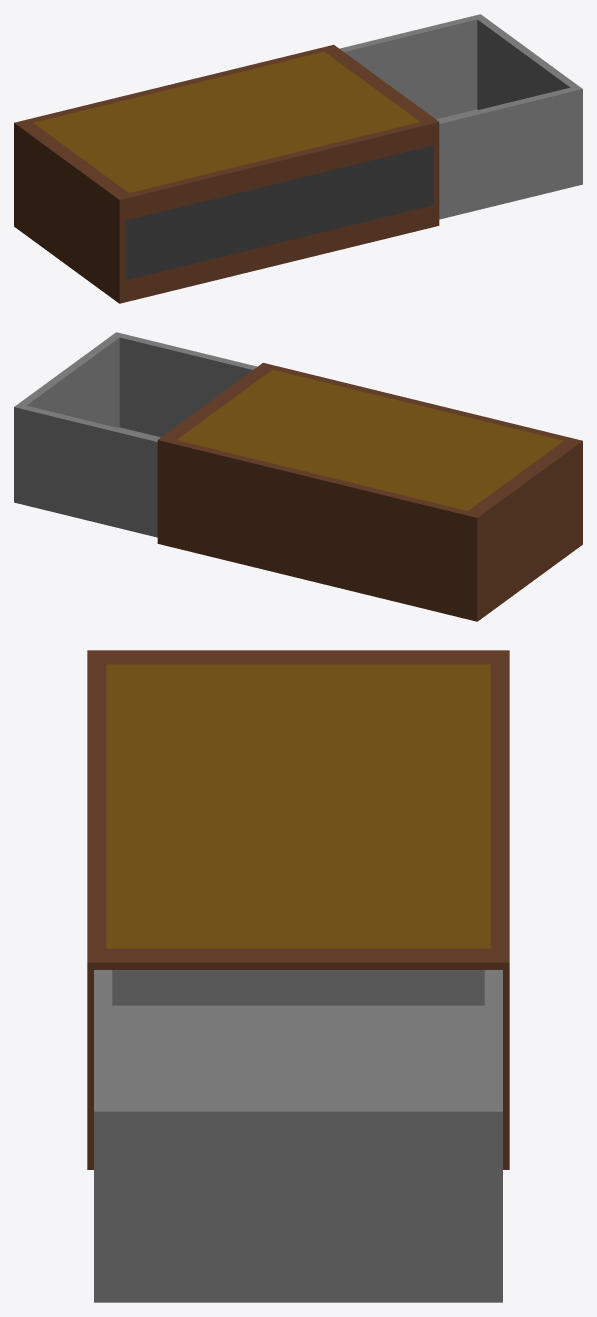
File: matchbox02.gltf
3 renders of one model, top to bottom at view 1: azimuth 30°, elevation 25°; view 2: azimuth 150°, elevation 25°; view 3: azimuth 270°, elevation 25°, orthographic. The views are drawn at different scales.
Visible parts, largest first — view 1: Cube; view 2: Cube; view 3: Cube.
Part boxes in pixels (x1=…): Cube: x1=14, y1=14, x2=582, y2=303; Cube: x1=14, y1=332, x2=582, y2=621; Cube: x1=87, y1=650, x2=509, y2=1302.
Bounding box in the file's own units: 0.1018 × 0.0217 × 0.04.
1 material, 1 textured.
